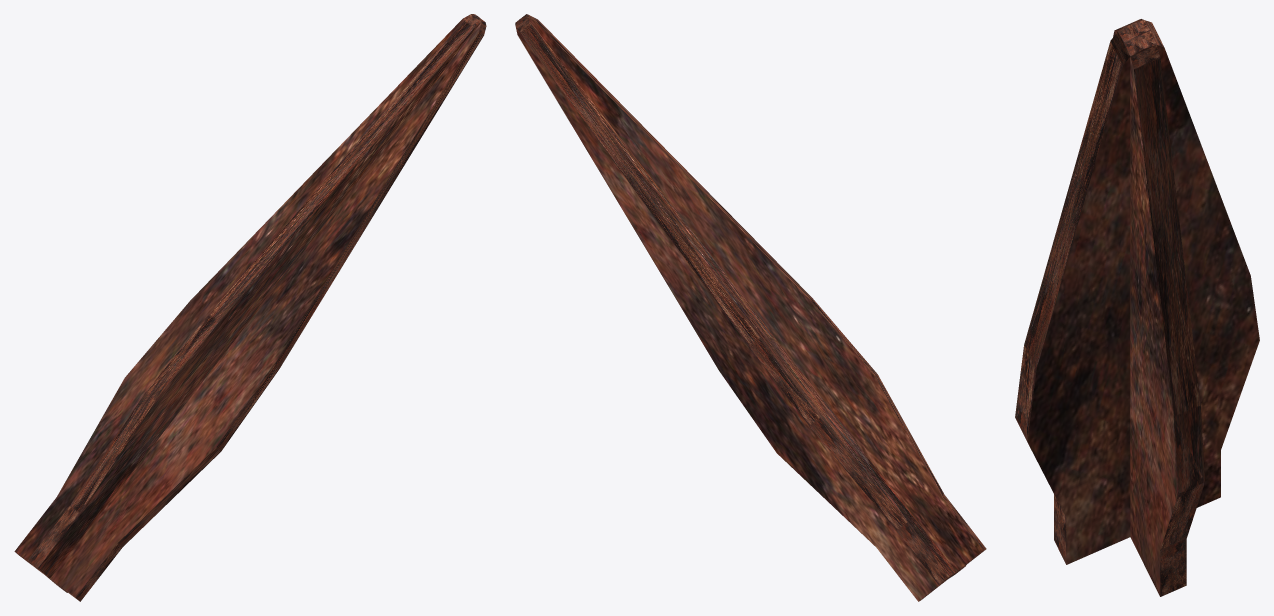
The picture shows the model from 3 angles, left to right: view 1: azimuth 30°, elevation 25°; view 2: azimuth 150°, elevation 25°; view 3: azimuth 270°, elevation 25°; orthographic projection. The views are drawn at different scales.
Visible parts, largest first — view 1: Layer_Model_Front; view 2: Layer_Model_Front; view 3: Layer_Model_Front.
Part boxes in pixels (x1=…): Layer_Model_Front: x1=14, y1=14, x2=486, y2=601; Layer_Model_Front: x1=515, y1=14, x2=986, y2=601; Layer_Model_Front: x1=1015, y1=19, x2=1259, y2=596.
Bounding box in the file's own units: 3.93 × 3.93 × 0.9023.
Materials: 1 (1 with a texture image).
